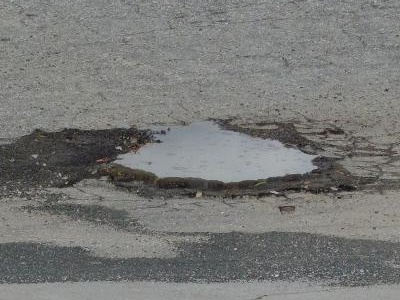pothole: (90, 117, 357, 206)
